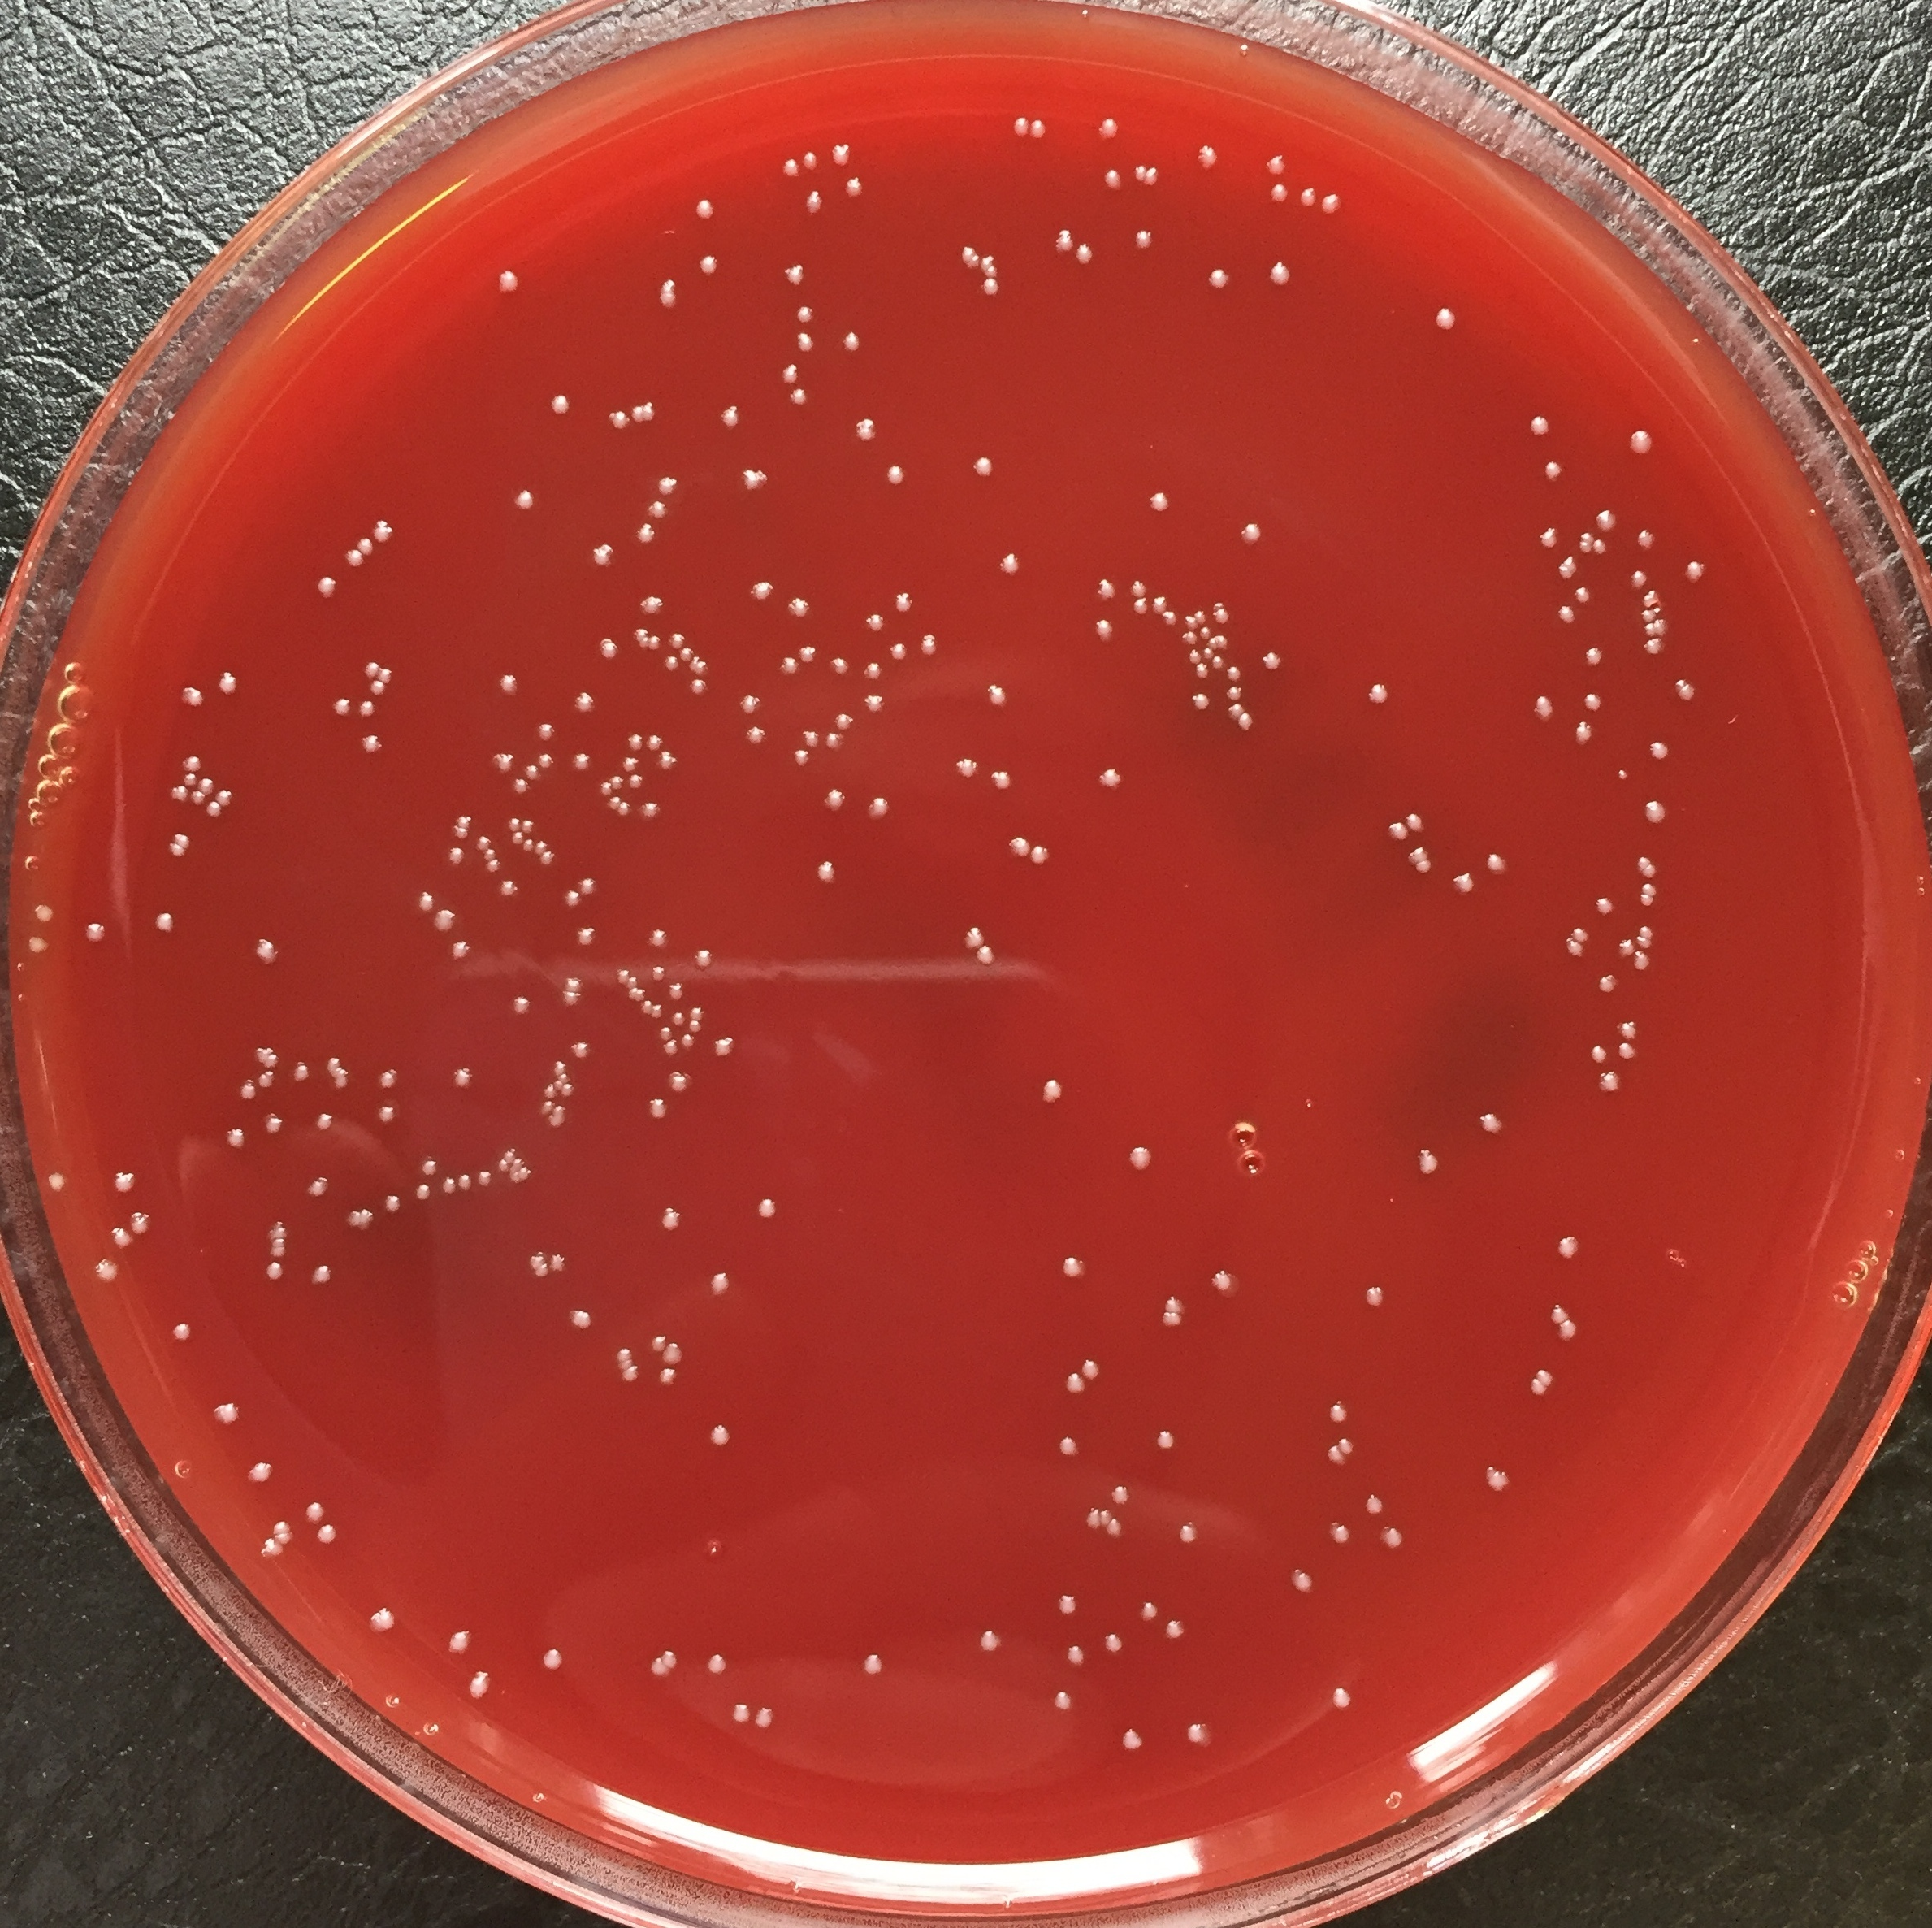sp23: (846, 1633, 902, 1713), (692, 1407, 745, 1472), (1079, 750, 1132, 814), (1619, 413, 1683, 466), (1044, 1243, 1098, 1303), (475, 252, 532, 305), (1280, 1550, 1326, 1614), (696, 1259, 754, 1307), (987, 535, 1037, 588), (738, 1183, 793, 1231), (646, 258, 682, 330), (1473, 1446, 1512, 1510), (1233, 508, 1282, 558), (731, 452, 781, 501), (1121, 478, 1174, 524), (486, 482, 555, 517), (834, 314, 879, 367), (65, 908, 115, 955), (459, 1663, 509, 1709), (968, 1621, 1010, 1674), (535, 371, 574, 427), (1083, 102, 1136, 143), (1125, 1142, 1164, 1197), (841, 406, 887, 452), (429, 1621, 479, 1663), (141, 902, 184, 952), (245, 929, 288, 978), (32, 1162, 71, 1215), (581, 524, 616, 581), (1423, 291, 1466, 337), (1664, 669, 1709, 712), (1473, 1095, 1512, 1144), (1197, 1262, 1247, 1301), (639, 1201, 689, 1239), (811, 853, 849, 902), (814, 780, 853, 830), (876, 456, 911, 508), (1355, 1275, 1400, 1315), (1183, 134, 1231, 173), (975, 674, 1014, 722), (941, 747, 980, 795), (705, 394, 747, 436), (1630, 514, 1672, 556), (1324, 1670, 1358, 1723), (108, 1151, 141, 1204), (1121, 219, 1155, 272), (1116, 1718, 1151, 1767), (357, 1598, 397, 1640), (1639, 791, 1683, 830), (1355, 673, 1407, 704), (1040, 1582, 1083, 1621), (164, 1312, 207, 1351), (171, 682, 210, 724), (650, 466, 689, 508), (837, 166, 876, 208), (1542, 1231, 1588, 1266), (88, 1250, 124, 1296), (701, 1642, 735, 1690), (214, 655, 254, 694), (1047, 1430, 1088, 1469), (1174, 1510, 1206, 1559), (1160, 1607, 1194, 1653), (796, 184, 830, 230), (1526, 456, 1572, 489), (1407, 1144, 1446, 1183), (539, 1626, 567, 1679), (823, 127, 858, 169), (872, 777, 899, 833), (1676, 551, 1711, 593), (1259, 252, 1296, 291), (1203, 254, 1236, 297), (964, 447, 994, 493), (207, 1393, 242, 1432), (623, 514, 659, 553), (449, 1065, 487, 1100), (1522, 413, 1565, 445), (1141, 1427, 1183, 1458), (325, 1054, 355, 1098), (569, 687, 606, 722), (1033, 1070, 1067, 1109), (300, 567, 339, 600), (304, 1255, 336, 1296), (1443, 865, 1478, 900), (493, 662, 525, 701), (692, 252, 731, 284), (987, 757, 1019, 796), (632, 591, 682, 616), (1183, 1713, 1210, 1759), (19, 929, 49, 968), (685, 196, 722, 226), (1098, 1623, 1125, 1663), (1648, 731, 1679, 764), (244, 1457, 277, 1488), (789, 298, 821, 332), (23, 892, 58, 922), (1476, 853, 1512, 883), (297, 1165, 332, 1195), (660, 1070, 694, 1098), (784, 593, 819, 620), (373, 1102, 403, 1132), (261, 1112, 291, 1142), (357, 731, 387, 761), (782, 260, 812, 290), (570, 1033, 599, 1065), (752, 1700, 779, 1734), (608, 403, 632, 438), (745, 576, 775, 604), (569, 1307, 599, 1335), (1049, 1683, 1075, 1714), (890, 588, 922, 614), (1321, 1400, 1353, 1427), (291, 1054, 314, 1089), (443, 939, 479, 962), (708, 1033, 736, 1061), (1005, 828, 1031, 858), (826, 653, 853, 683), (1264, 148, 1291, 178), (1098, 164, 1125, 194), (314, 1111, 344, 1137), (507, 1165, 537, 1192), (977, 281, 1007, 307), (131, 1204, 155, 1236), (526, 1248, 547, 1285), (429, 906, 461, 930), (373, 514, 397, 546), (692, 941, 715, 975), (1031, 113, 1051, 152), (1321, 187, 1342, 222), (1326, 1518, 1353, 1547), (574, 920, 600, 948), (533, 717, 560, 745), (917, 629, 941, 659), (957, 920, 982, 950), (733, 690, 763, 715), (260, 1259, 290, 1284), (316, 1525, 341, 1555), (473, 1164, 496, 1195), (1090, 618, 1116, 644), (1381, 817, 1407, 844), (224, 1126, 251, 1153), (975, 252, 1001, 279), (858, 659, 887, 683), (1535, 521, 1559, 549), (1554, 1321, 1579, 1349), (1596, 1072, 1625, 1096), (334, 1206, 358, 1234), (1575, 719, 1598, 749), (532, 749, 562, 772), (381, 1185, 401, 1220), (743, 722, 768, 749), (775, 653, 800, 680), (645, 927, 671, 952), (1593, 507, 1618, 533), (1586, 1036, 1611, 1063), (373, 1063, 399, 1088), (593, 632, 618, 659), (786, 385, 811, 411), (438, 1171, 457, 1204), (1531, 694, 1554, 722), (1061, 1642, 1084, 1670), (1379, 1522, 1402, 1550), (509, 990, 537, 1013), (1077, 245, 1100, 274), (1030, 840, 1051, 870), (306, 1495, 327, 1525), (1054, 224, 1072, 260), (1298, 182, 1317, 214), (1579, 643, 1604, 667), (1123, 576, 1148, 600), (860, 690, 885, 715), (1556, 556, 1581, 581), (1362, 1492, 1386, 1517), (253, 1042, 277, 1066), (830, 708, 857, 731), (825, 731, 848, 757), (1210, 599, 1233, 625), (1577, 690, 1604, 713), (272, 1517, 295, 1543), (411, 1181, 434, 1208), (786, 745, 814, 766), (1137, 1596, 1158, 1624), (1081, 1352, 1102, 1381), (560, 992, 588, 1013), (774, 358, 802, 380), (791, 328, 812, 357), (1595, 890, 1614, 920), (551, 1250, 570, 1280), (1010, 113, 1030, 143), (1162, 1291, 1187, 1314), (1222, 682, 1247, 704), (328, 692, 351, 717), (860, 606, 881, 632), (1095, 576, 1116, 602), (1148, 588, 1169, 614), (1261, 644, 1282, 671), (796, 641, 818, 667), (731, 1700, 752, 1727), (1616, 1020, 1642, 1042), (447, 844, 468, 870), (1130, 162, 1150, 191), (238, 1073, 256, 1103), (978, 946, 1001, 969), (258, 1540, 281, 1563), (664, 1342, 685, 1367), (1554, 602, 1575, 627), (1572, 581, 1593, 606), (569, 747, 590, 772), (415, 1156, 440, 1178), (413, 886, 433, 913), (498, 881, 525, 900), (1148, 162, 1164, 194), (459, 1167, 473, 1202), (779, 154, 796, 182), (1111, 1480, 1132, 1502), (357, 699, 380, 720), (675, 644, 698, 666), (555, 1070, 577, 1091), (798, 729, 823, 749), (1404, 809, 1423, 833), (1618, 1043, 1642, 1063), (1614, 934, 1634, 959), (108, 1222, 127, 1246), (800, 148, 819, 173), (1158, 1314, 1185, 1331), (645, 1098, 666, 1119), (655, 752, 676, 773), (620, 1365, 641, 1386), (1634, 952, 1655, 973), (579, 874, 600, 895), (205, 796, 221, 825), (535, 849, 556, 870), (645, 397, 660, 426), (629, 733, 648, 756), (653, 1367, 676, 1386), (1596, 971, 1616, 994), (358, 657, 378, 680), (164, 786, 187, 805), (268, 1216, 288, 1239), (546, 1051, 565, 1073), (565, 973, 588, 992), (1107, 1515, 1125, 1540), (1406, 844, 1430, 862), (366, 678, 390, 696), (655, 1040, 680, 1058), (666, 983, 687, 1003), (639, 802, 660, 821), (1190, 692, 1210, 713), (1272, 184, 1291, 205), (1547, 1303, 1568, 1322), (1533, 1361, 1552, 1382), (1628, 570, 1648, 591), (1635, 918, 1657, 938), (343, 551, 362, 572), (512, 779, 533, 798), (198, 773, 219, 793), (668, 1008, 687, 1029), (653, 1020, 673, 1042), (533, 832, 553, 853), (662, 1644, 680, 1667), (1641, 639, 1664, 657), (1630, 930, 1653, 948), (215, 787, 238, 805), (689, 655, 712, 673), (600, 796, 623, 814), (660, 632, 689, 646), (650, 1654, 666, 1679), (1068, 1372, 1084, 1397), (553, 1105, 569, 1130), (1563, 939, 1582, 959), (260, 1072, 279, 1091), (565, 888, 585, 908), (381, 664, 401, 683), (477, 828, 496, 847), (687, 678, 706, 697), (625, 989, 645, 1008), (609, 773, 629, 793), (890, 639, 908, 660), (648, 962, 666, 983), (645, 733, 666, 750), (1566, 925, 1593, 939), (1632, 849, 1649, 870), (645, 632, 662, 653), (615, 798, 632, 819), (360, 1202, 373, 1232), (1083, 1506, 1098, 1529), (609, 1358, 632, 1374), (1240, 713, 1256, 736), (184, 768, 200, 791), (1128, 600, 1148, 618), (1323, 1446, 1342, 1464), (1642, 863, 1662, 881), (493, 752, 510, 772), (1637, 892, 1658, 908), (182, 754, 203, 770), (662, 651, 678, 673), (270, 1239, 291, 1255), (509, 826, 525, 847), (1335, 1441, 1358, 1455), (562, 1084, 585, 1098), (638, 1001, 652, 1024), (620, 761, 643, 775), (634, 395, 645, 426), (964, 240, 975, 270), (1226, 664, 1243, 682), (1639, 606, 1657, 623), (454, 810, 472, 828), (593, 777, 611, 795), (1164, 609, 1180, 629), (1098, 1508, 1114, 1527), (1528, 1381, 1543, 1400), (1641, 620, 1657, 639), (173, 828, 189, 847), (482, 858, 502, 874), (1642, 883, 1664, 897), (539, 1096, 553, 1118), (652, 999, 666, 1020), (687, 1019, 701, 1040), (682, 1031, 694, 1054), (523, 835, 535, 858), (613, 1344, 630, 1359), (1187, 650, 1204, 666), (1217, 632, 1233, 650), (1416, 863, 1434, 879), (1575, 528, 1593, 544), (1642, 590, 1660, 606), (1657, 618, 1672, 636), (353, 537, 369, 554), (482, 847, 500, 863), (687, 1003, 705, 1019), (505, 810, 521, 828), (517, 816, 535, 832), (521, 759, 535, 779), (540, 1081, 553, 1102), (650, 1333, 666, 1349), (1192, 664, 1208, 680), (1211, 653, 1227, 669), (187, 793, 203, 809), (1227, 703, 1241, 720), (1196, 625, 1213, 639), (498, 1146, 516, 1160), (623, 971, 638, 989), (1183, 611, 1196, 630), (168, 840, 180, 860), (611, 962, 623, 982), (629, 775, 648, 787), (1194, 606, 1208, 621), (1577, 544, 1591, 560), (1591, 538, 1607, 553), (1614, 768, 1630, 782), (496, 1164, 509, 1181), (510, 1156, 528, 1169), (449, 832, 468, 842), (1180, 632, 1196, 644), (1203, 646, 1213, 662), (638, 637, 646, 653), (632, 627, 643, 639)
